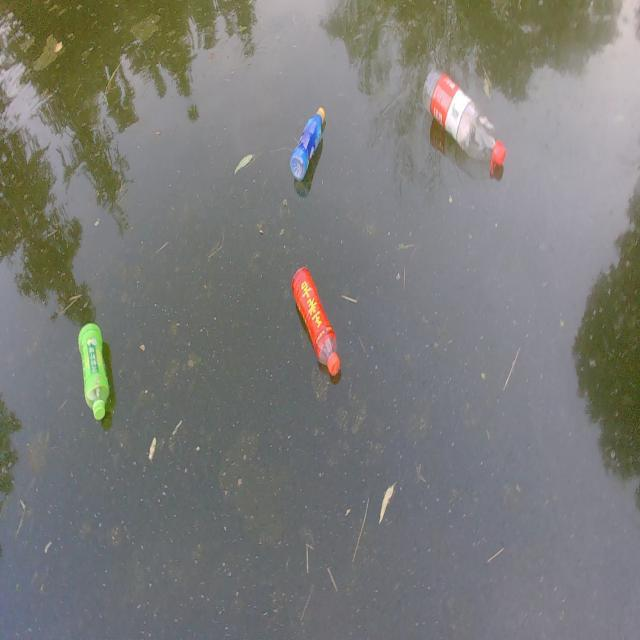bottle: (403, 39, 525, 196), (274, 234, 368, 396), (73, 319, 120, 424), (285, 94, 335, 188)
